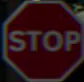Stop: (4, 3, 78, 74)
